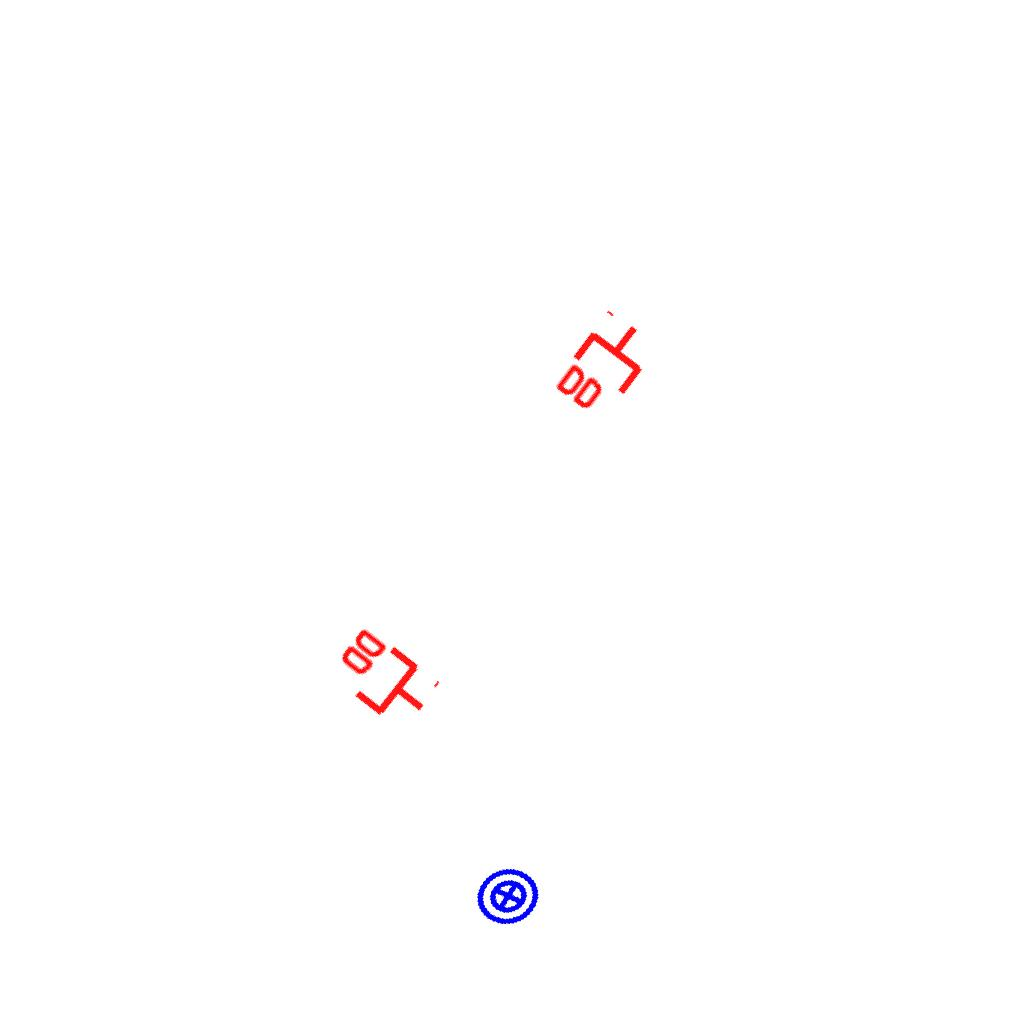Datenanschluss_zweifach: (320, 620, 445, 739), (547, 305, 666, 430)
Taster_beleuchtet: (467, 855, 549, 937)
